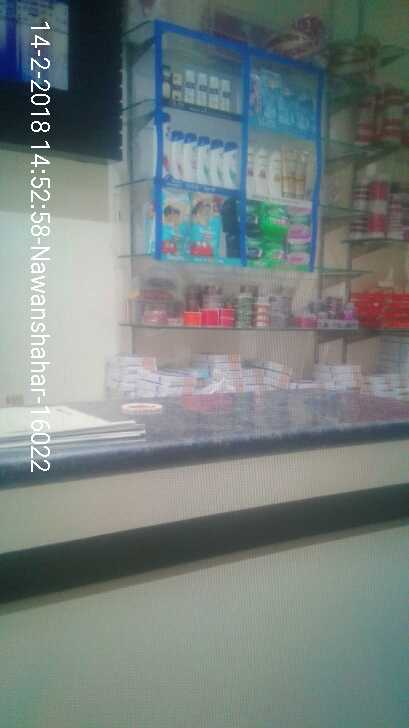venus: (295, 89, 321, 128), (261, 73, 276, 121), (280, 86, 295, 128)
